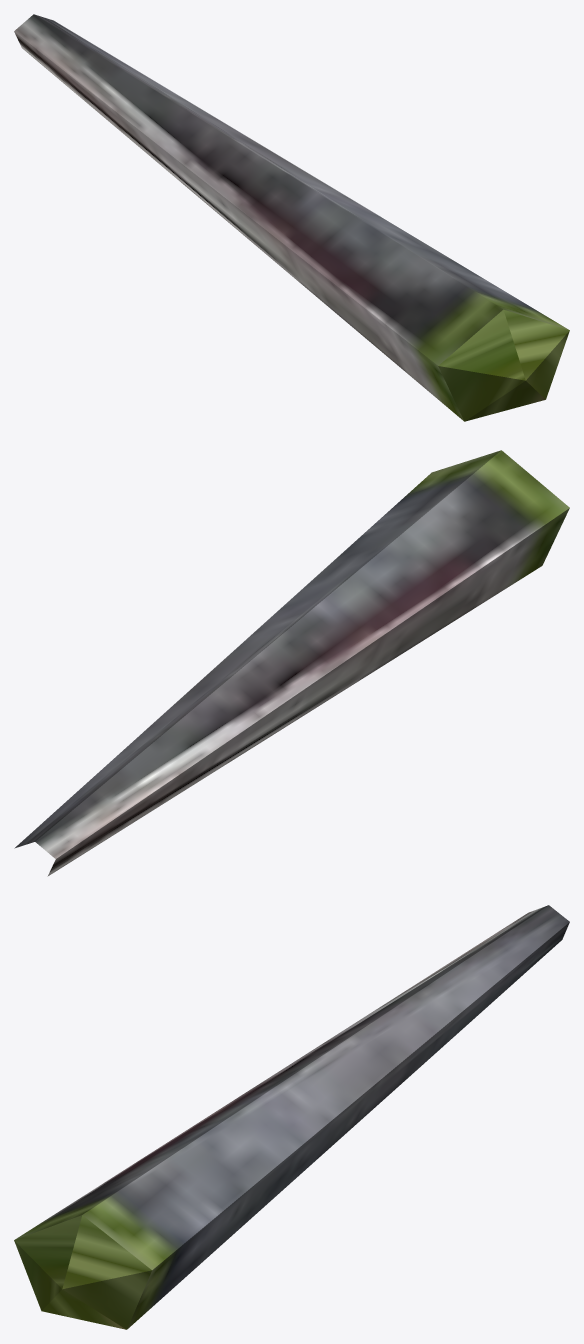
Rendered from GS_URNALESTERA.glb.
The picture shows the model from 3 angles, top to bottom: view 1: azimuth 30°, elevation 25°; view 2: azimuth 150°, elevation 25°; view 3: azimuth 330°, elevation 25°; orthographic projection. The views are drawn at different scales.
Parts seen in each view (by area): view 1: GS_URNALESTERA; view 2: GS_URNALESTERA; view 3: GS_URNALESTERA.
Boxes of the visible parts, x1=… form: GS_URNALESTERA: x1=14, y1=14, x2=569, y2=421; GS_URNALESTERA: x1=14, y1=450, x2=569, y2=876; GS_URNALESTERA: x1=14, y1=905, x2=569, y2=1329.
Size of the model in its own units: 0.0478 by 0.0352 by 0.3002.
Materials: 1 (1 with a texture image).
